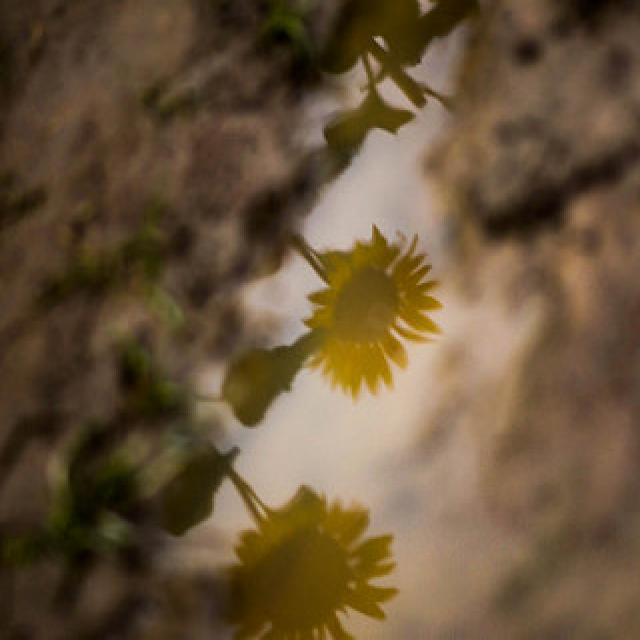sunflower: (223, 487, 405, 640), (296, 226, 440, 410)
